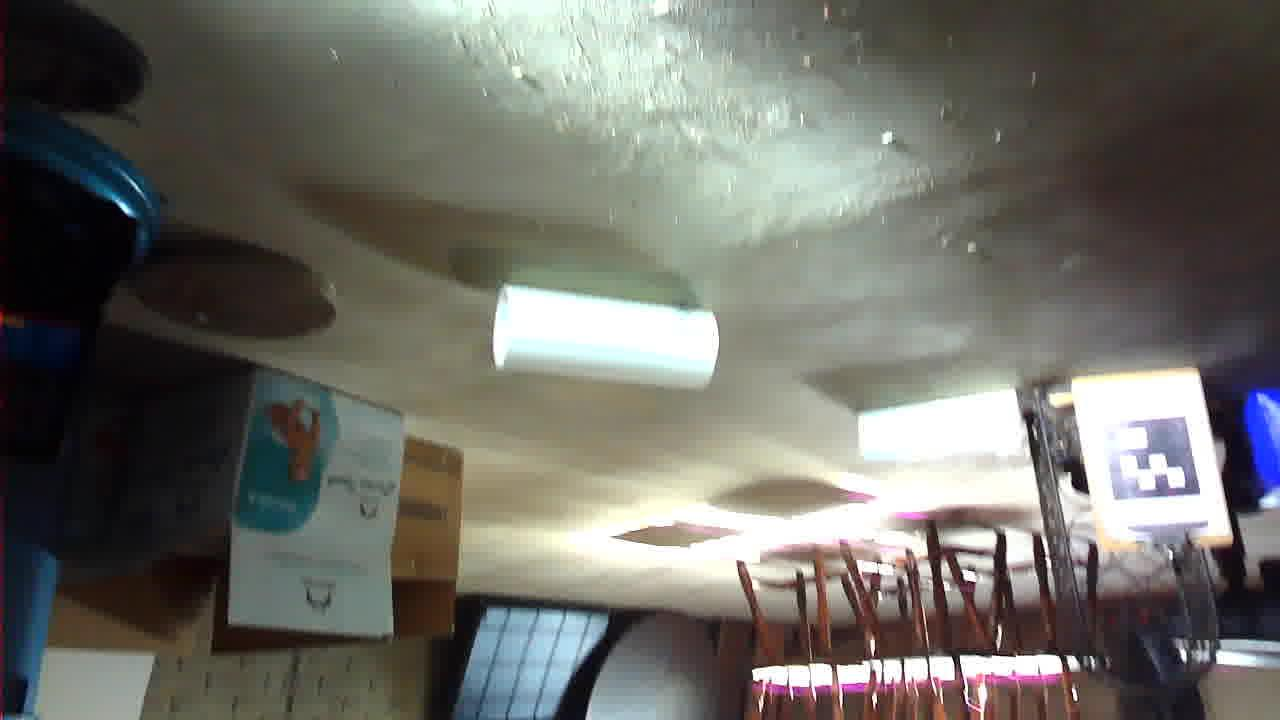coral: (562, 327, 787, 437), (256, 267, 424, 318)
